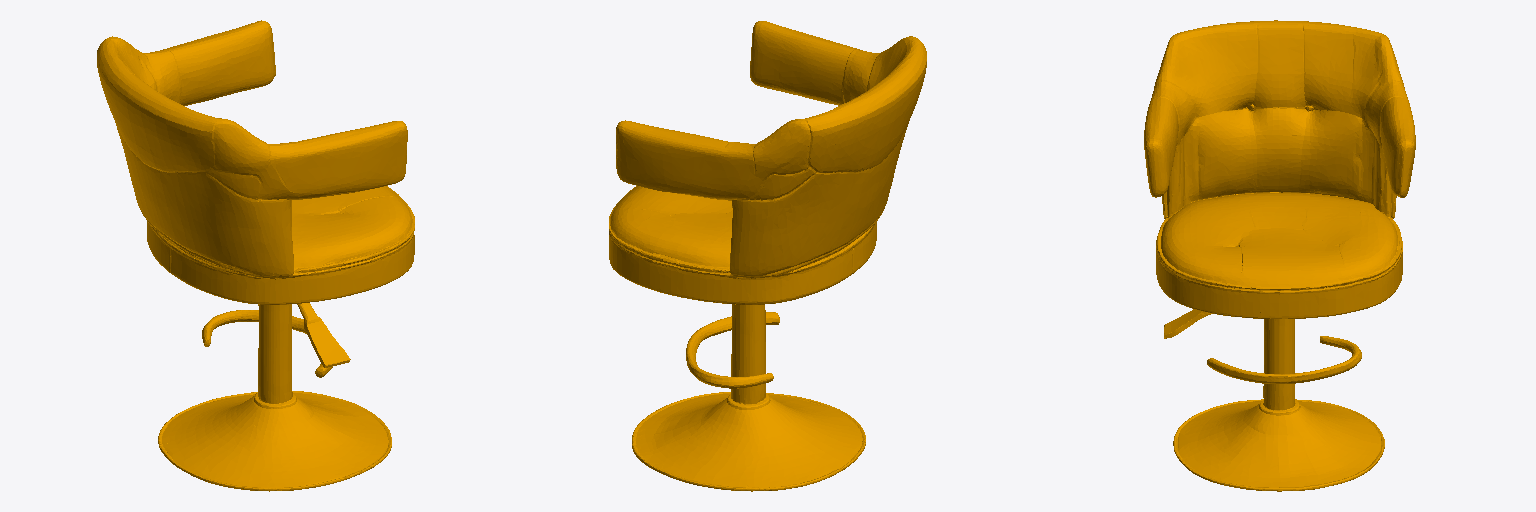
The robot description file, URDF, robot "bar_stool_33":
<?xml version="1.0" ?>
<robot name="bar_stool_33">
   <link name="bar_stool_33">
      <visual>
         <origin xyz="0 0 0" rpy="1.5708 0.0 0.0"/>
         <geometry>
            <mesh filename="mesh/bar_stool_33.obj" scale="1.0 1.0 1.0"/>
         </geometry>
      </visual>
      <collision>
         <origin xyz="0 0 0" rpy="1.5708 0.0 0.0"/>
         <geometry>
            <mesh filename="mesh/bar_stool_33_collision.obj" scale="1.0 1.0 1.0"/>
         </geometry>
         <gazebo>
            <mu1>0.80</mu1>
            <mu2>0.60</mu2>
         </gazebo>
      </collision>
      <inertial>
         <mass value="8.0000"/>
         <origin xyz="0 0 0"/>
         <inertia ixx="1.0" ixy="0.0" ixz="0.0" iyy="1.0" iyz="0.0" izz="1.0"/>
      </inertial>
      <extra_info>
         <scale>1.000000</scale>
         <version>v0.1.5</version>
         <category>bar_stool</category>
         <description>modern black bar stool with padded seat and metallic base</description>
         <min_height>0.9</min_height>
         <max_height>1.1</max_height>
         <real_height>1.0</real_height>
         <min_mass>6.0</min_mass>
         <max_mass>10.0</max_mass>
         <generate_time>20251021123729</generate_time>
         <gs_model>mesh/bar_stool_33_gs.ply</gs_model>
      </extra_info>
   </link>
   <custom_data>
      <quality>
         <MeshGeoChecker>YES</MeshGeoChecker>
         <ImageSegChecker>YES</ImageSegChecker>
         <ImageAestheticChecker>5.201508164405823</ImageAestheticChecker>
         <overall>YES</overall>
      </quality>
   </custom_data>
</robot>

--- Facts derived from the render (not from the file) ---
Views: 3 orthographic renders of the robot side by side, from view 1: azimuth 30°, elevation 25°; view 2: azimuth 150°, elevation 25°; view 3: azimuth 270°, elevation 25°.
Robot: bar_stool_33 — 1 links, 0 joints (none); root link bar_stool_33; default pose: all joints at 0.
Links seen in each view (by area): view 1: bar_stool_33; view 2: bar_stool_33; view 3: bar_stool_33.
Boxes of the visible links, box(x1,y1,x2,y2) form: bar_stool_33: box(97, 20, 414, 491); bar_stool_33: box(609, 21, 926, 491); bar_stool_33: box(1144, 20, 1415, 491).
Bounding box of the posed robot: 0.7063 × 0.6776 × 1 m (x, y, z).
Meshes: 1 distinct files referenced, 1 mesh visuals loaded (1 OBJ).
